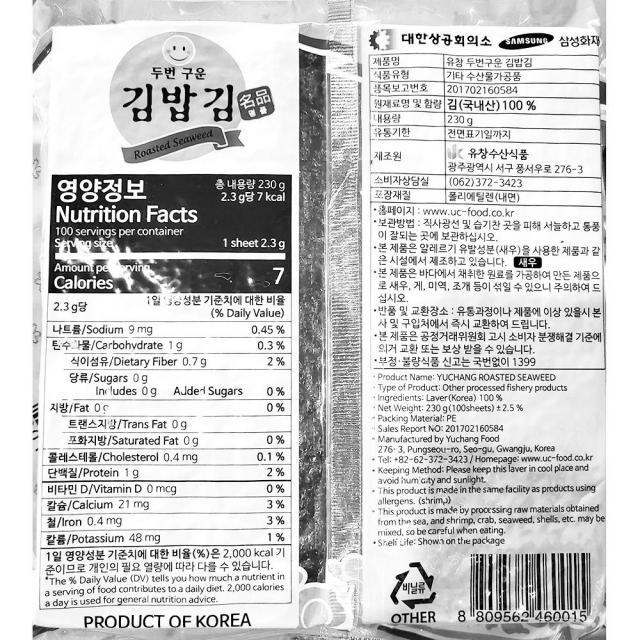Nutrition Label: (43, 171, 296, 607)
